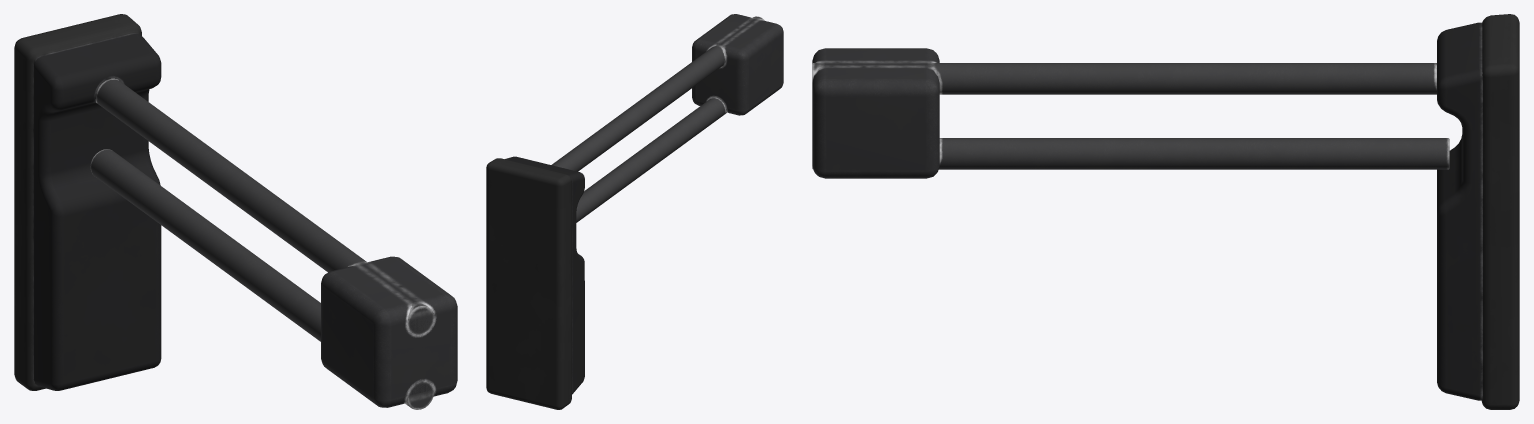
The model's file is stock_skeletal.glb.
The picture shows the model from 3 angles, left to right: view 1: azimuth 30°, elevation 25°; view 2: azimuth 150°, elevation 25°; view 3: azimuth 270°, elevation 25°; orthographic projection. The views are drawn at different scales.
Visible parts, largest first — view 1: body; view 2: body; view 3: body.
Part boxes in pixels (bbox=[...]): body: bbox=[14, 14, 457, 409]; body: bbox=[486, 14, 783, 409]; body: bbox=[812, 14, 1519, 409].
Bounding box in the file's own units: 0.042 × 0.1198 × 0.222.
Materials: 1 (1 with a texture image).
